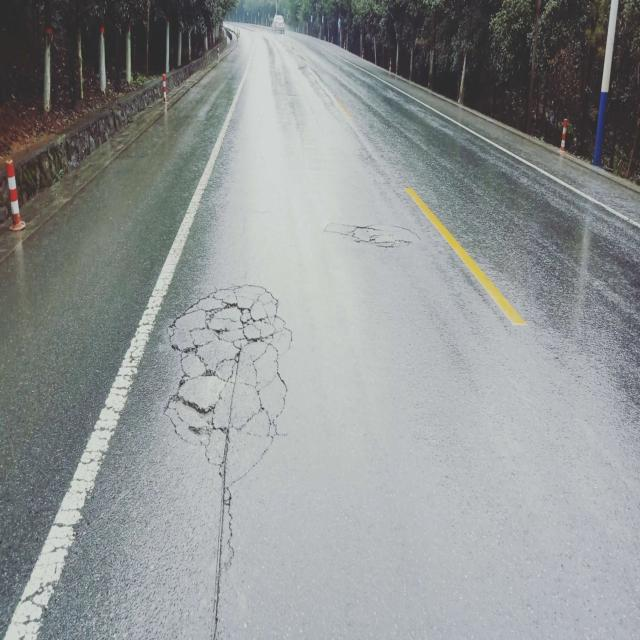Pothole: (170, 278, 290, 492), (330, 222, 426, 253)
